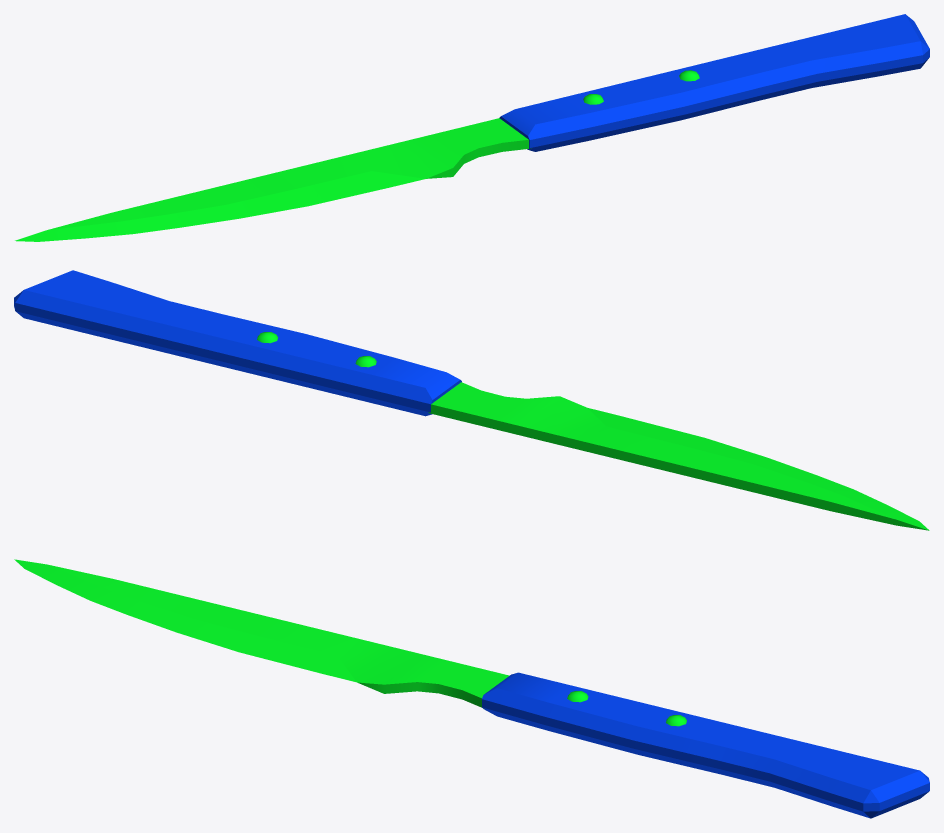
The model's file is SM_Kitchen_Knife.FBX.
3 views of the same model, one above another, from view 1: azimuth 30°, elevation 25°; view 2: azimuth 150°, elevation 25°; view 3: azimuth 330°, elevation 25° (orthographic). The views are drawn at different scales.
Parts seen in each view (by area): view 1: knife; view 2: knife; view 3: knife.
Boxes of the visible parts, <box> form: knife: <box>15,14,929,241</box>; knife: <box>14,270,929,530</box>; knife: <box>14,559,929,818</box>.
Size of the model in its own units: 45.27 by 1.84 by 3.64.
